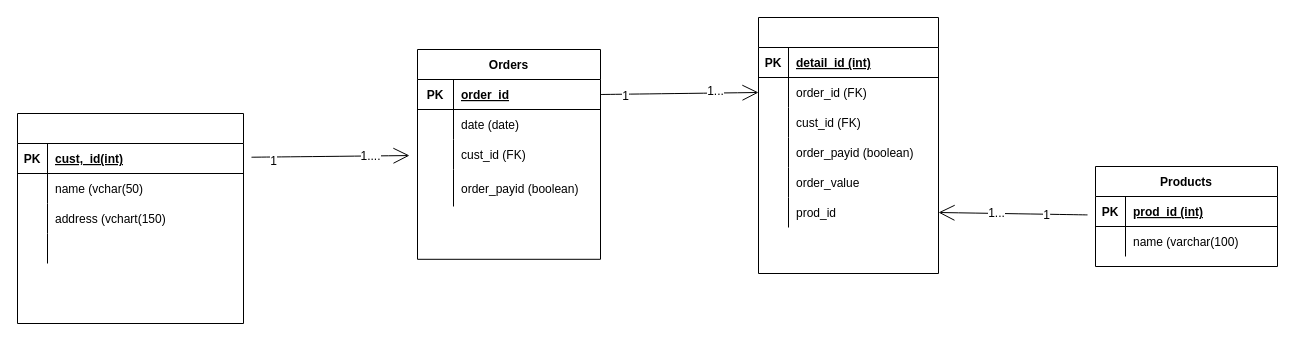
The diagram is 1295 pixels wide and 341 high, and some of its shapes have lost their labels. The shapes that lost their labels are listed below. From the top down, each one's box as (x1, y1, x2, y2) in pixels, then its label:
(758, 16, 938, 274): Details
(16, 112, 244, 324): Customer
